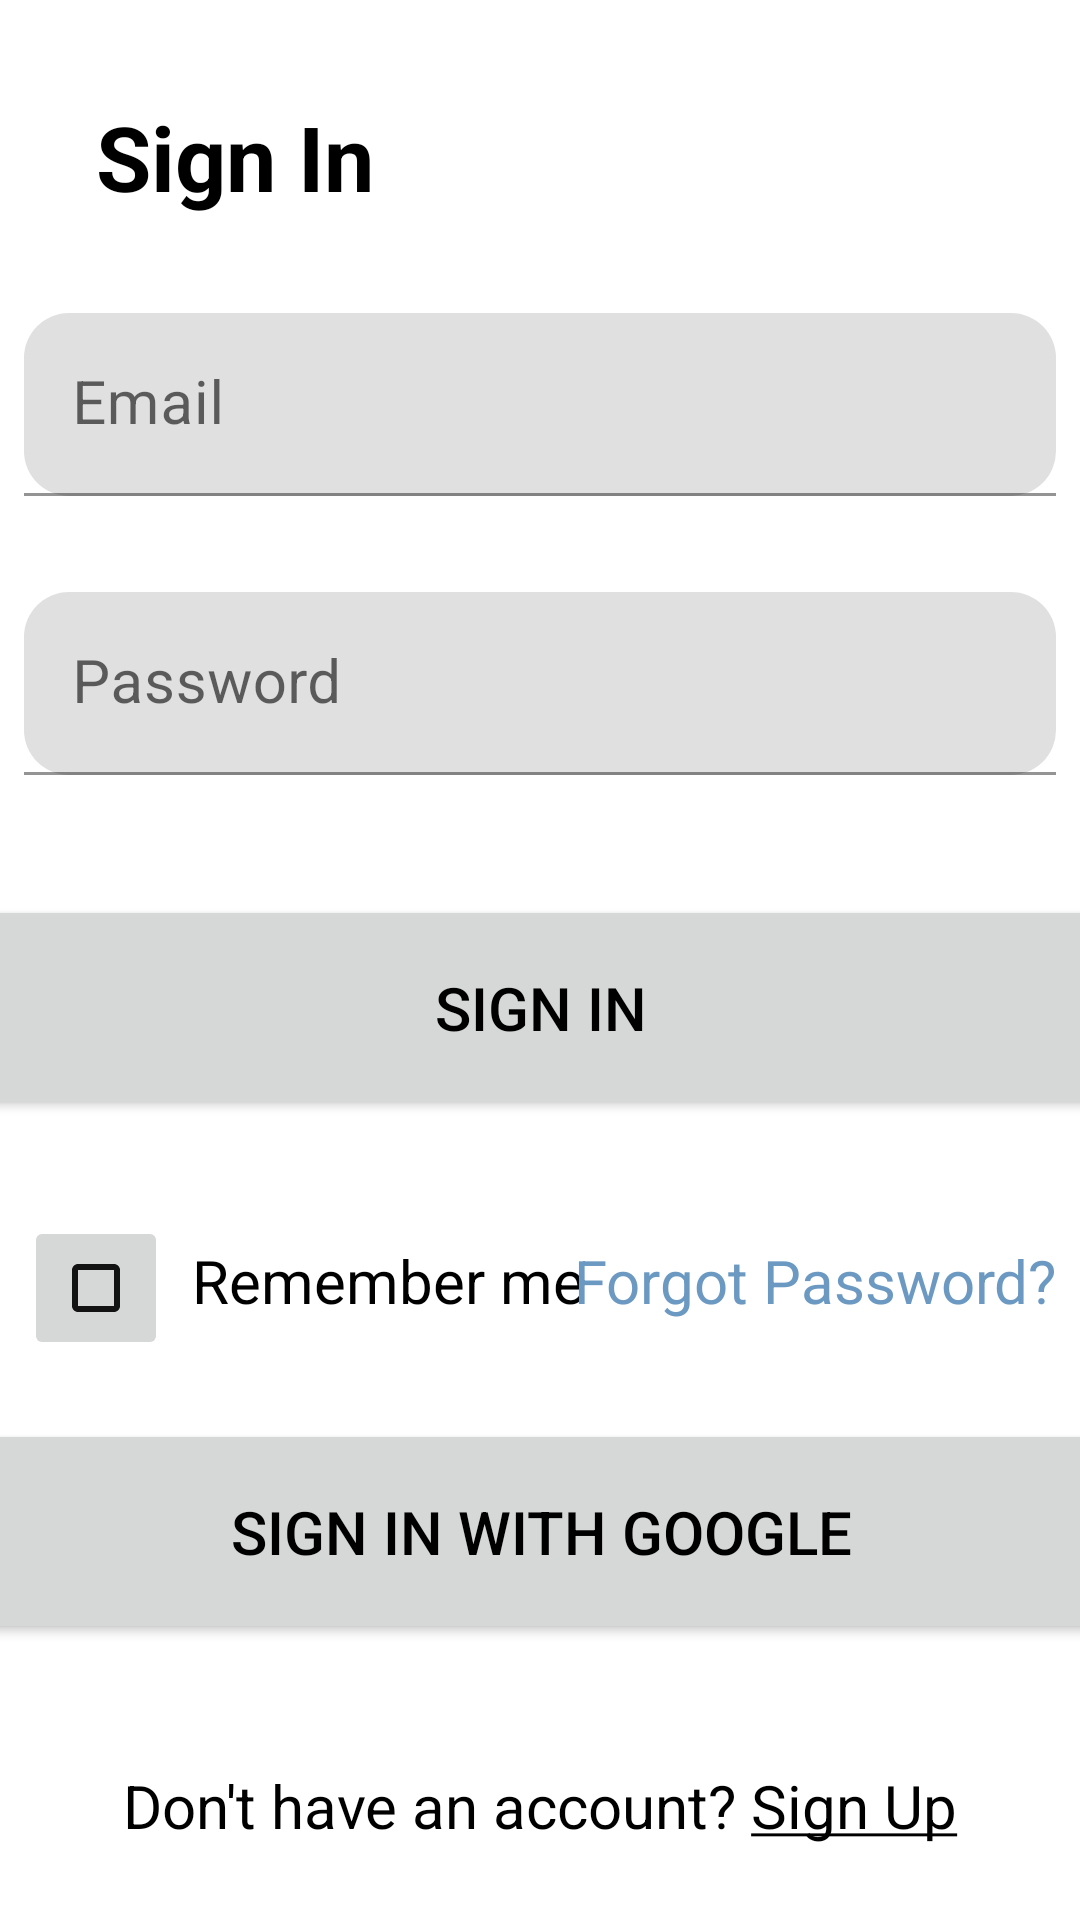

Icons on this 1080 × 1920 Android screen, each with its box as (x1, y1, x2, y2):
crop square: (36, 1234, 156, 1342)
